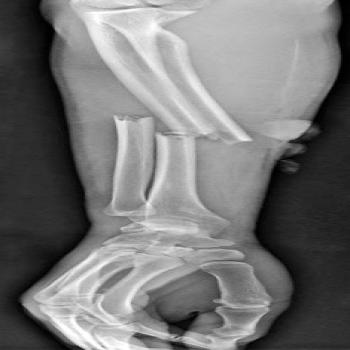Fracture: (104, 105, 253, 151)
